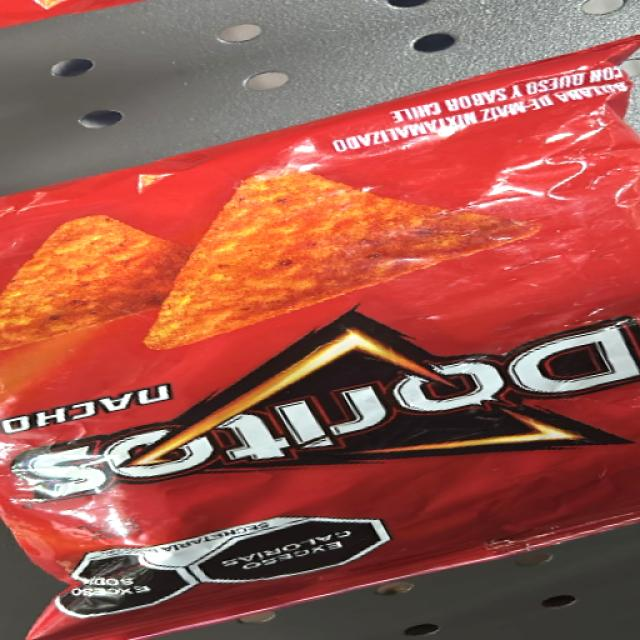doritosNacho: (17, 117, 628, 574)
